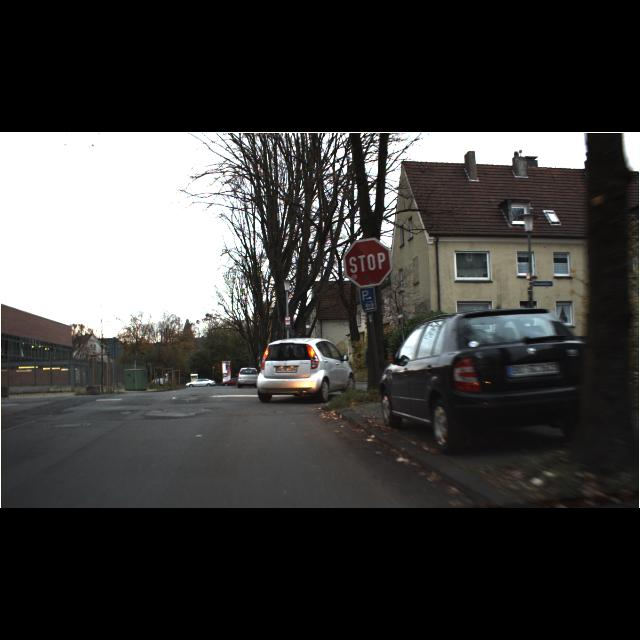other: (342, 238, 392, 288)
